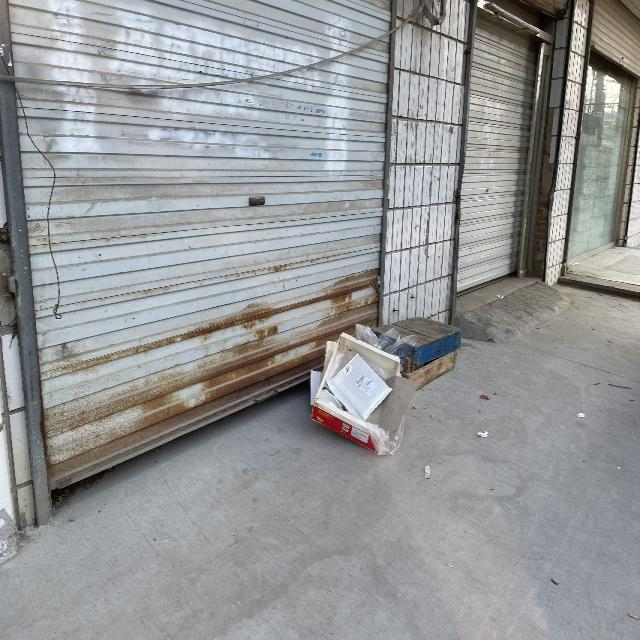garbage: (308, 320, 417, 453)
